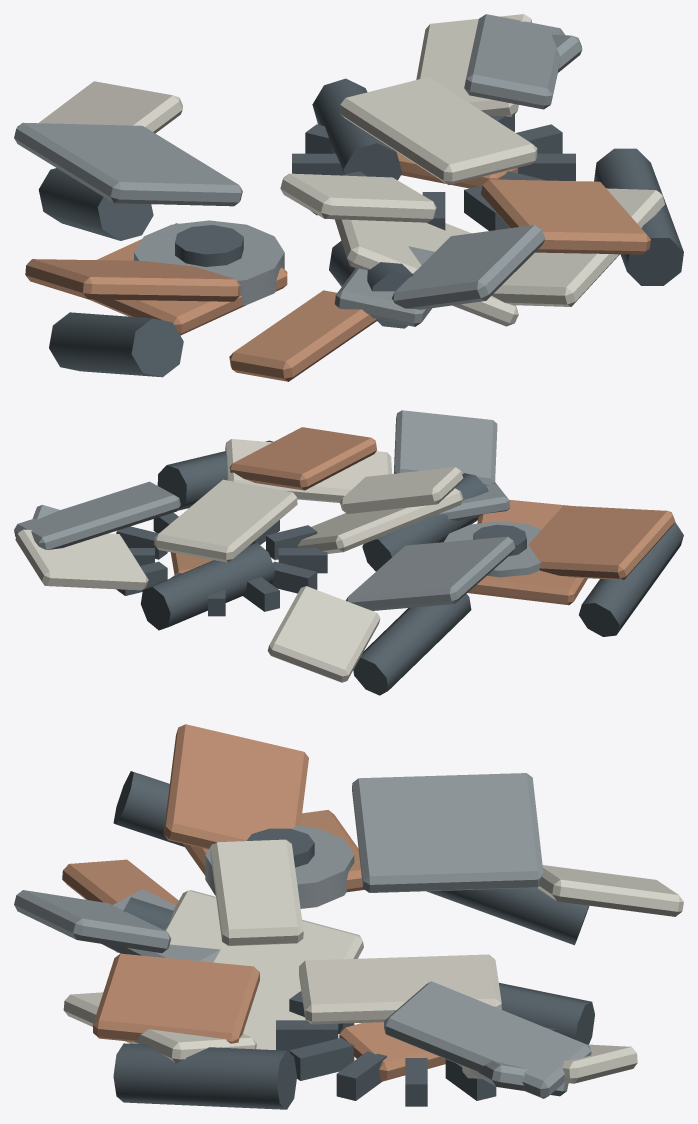
Rendered from cradle_scrap_cluster.glb.
3 renders of one model, top to bottom at view 1: azimuth 30°, elevation 25°; view 2: azimuth 150°, elevation 25°; view 3: azimuth 270°, elevation 25°, orthographic. The views are drawn at different scales.
Parts seen in each view (by area): view 1: steel.003, porcelain.004, rust.003, steel, rust, steel.001, darksteel, rust.001, porcelain, porcelain.002, porcelain.005, darksteel.004 (+16 smaller); view 2: rust, steel.003, porcelain.004, porcelain.003, steel, rust.003, steel.001, darksteel.003, porcelain.001, darksteel.001, darksteel, porcelain.002 (+17 smaller); view 3: steel.003, rust, rust.003, steel.001, darksteel.004, porcelain.004, porcelain.005, porcelain.002, steel, porcelain.003, darksteel.001, steel.005 (+16 smaller).
Part boxes in pixels (x1=…): steel.003: x1=14, y1=122, x2=242, y2=206; porcelain.004: x1=340, y1=77, x2=537, y2=184; rust.003: x1=481, y1=179, x2=650, y2=254; steel: x1=392, y1=225, x2=545, y2=309; rust: x1=25, y1=259, x2=240, y2=301; steel.001: x1=464, y1=14, x2=565, y2=109; darksteel: x1=49, y1=312, x2=183, y2=377; rust.001: x1=229, y1=290, x2=377, y2=381; porcelain: x1=492, y1=188, x2=664, y2=306; porcelain.002: x1=280, y1=173, x2=436, y2=222; porcelain.005: x1=335, y1=219, x2=518, y2=326; darksteel.004: x1=594, y1=148, x2=683, y2=285; rust: x1=528, y1=505, x2=675, y2=579; steel.003: x1=345, y1=536, x2=515, y2=610; porcelain.004: x1=154, y1=479, x2=297, y2=562; porcelain.003: x1=267, y1=586, x2=380, y2=682; steel: x1=394, y1=410, x2=497, y2=485; rust.003: x1=229, y1=427, x2=376, y2=490; steel.001: x1=14, y1=481, x2=180, y2=549; darksteel.003: x1=141, y1=543, x2=274, y2=630; porcelain.001: x1=15, y1=529, x2=148, y2=590; darksteel.001: x1=353, y1=594, x2=471, y2=695; darksteel: x1=579, y1=522, x2=683, y2=636; porcelain.002: x1=340, y1=467, x2=463, y2=513; steel.003: x1=352, y1=773, x2=543, y2=892; rust: x1=163, y1=724, x2=308, y2=849; rust.003: x1=93, y1=953, x2=259, y2=1043; steel.001: x1=384, y1=981, x2=591, y2=1098; darksteel.004: x1=113, y1=1043, x2=296, y2=1109; porcelain.004: x1=299, y1=954, x2=501, y2=1024; porcelain.005: x1=164, y1=890, x2=363, y2=1052; porcelain.002: x1=210, y1=839, x2=303, y2=945; steel: x1=14, y1=890, x2=171, y2=953; porcelain.003: x1=537, y1=865, x2=683, y2=916; darksteel.001: x1=427, y1=888, x2=589, y2=945; steel.005: x1=205, y1=825, x2=354, y2=908.
Size of the model in its own units: 3.05 by 0.6246 by 2.7.
